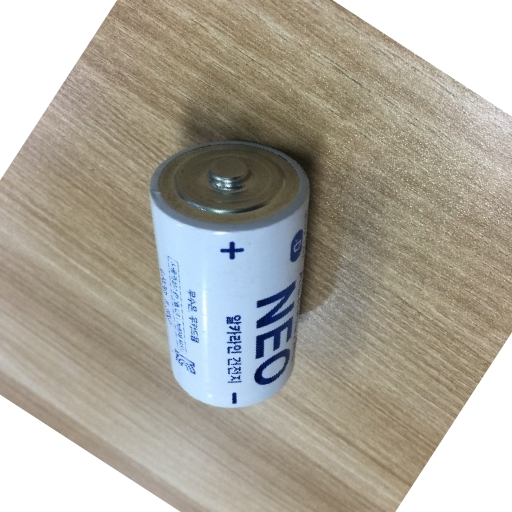Battery_0: (133, 128, 326, 425)
